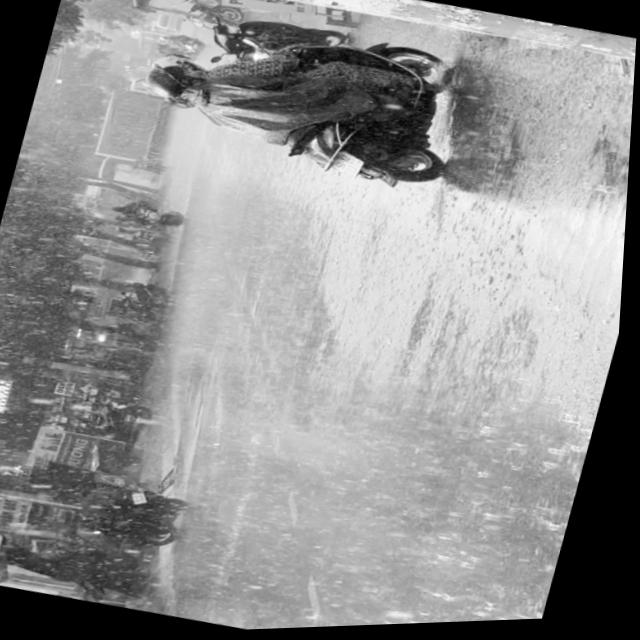helmet: (136, 62, 213, 110), (148, 46, 219, 83)
licenseplate: (115, 0, 492, 212)
